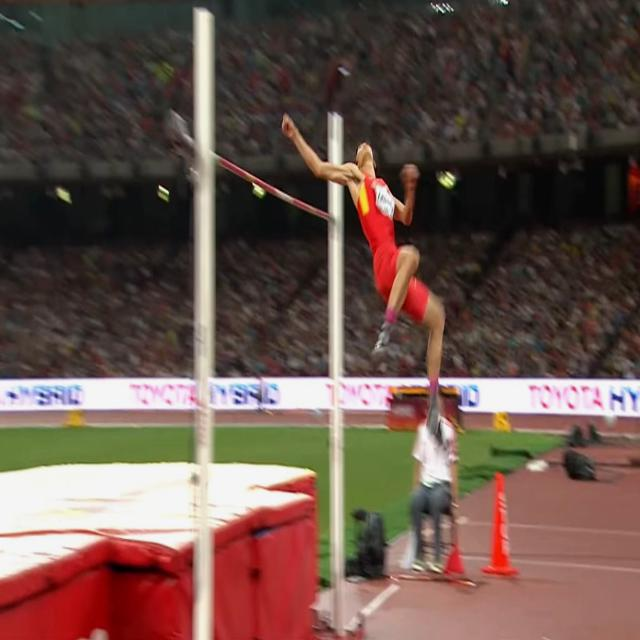jump: (282, 114, 444, 462)
